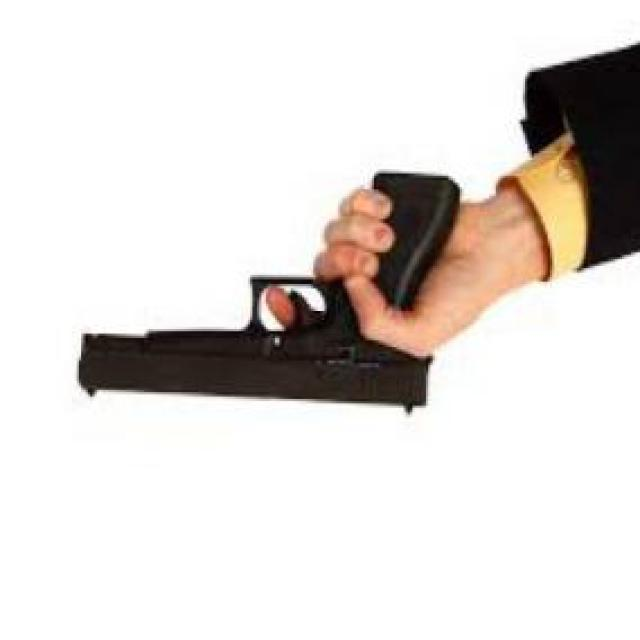pistol: (68, 175, 476, 417)
